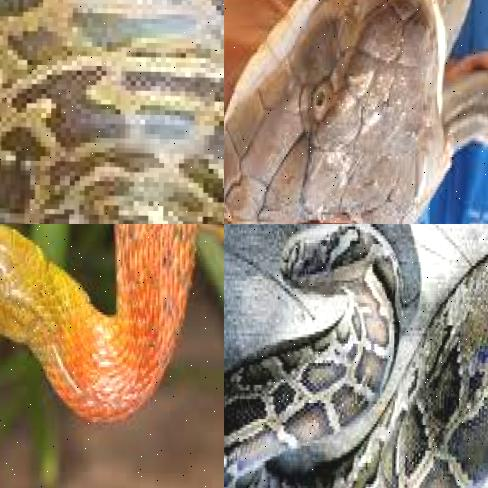snake: (224, 224, 488, 488), (224, 0, 488, 224), (0, 224, 224, 464), (0, 0, 224, 224)
